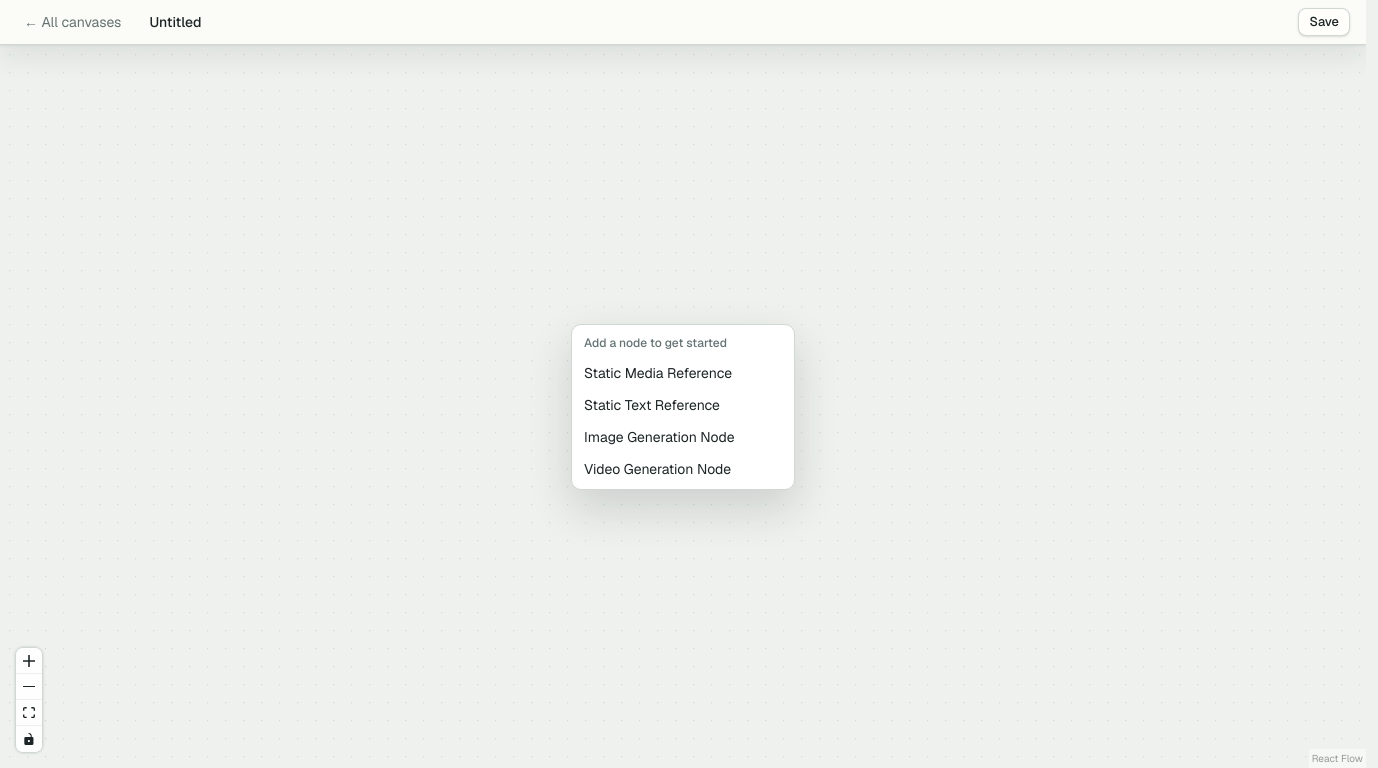
Test case: CanvasEditor header rename (issue #21) › renames the canvas via the header: click, type, Enter persists and updates the header
Click the button "Untitled" at (175, 22), box [141,8,210,36]
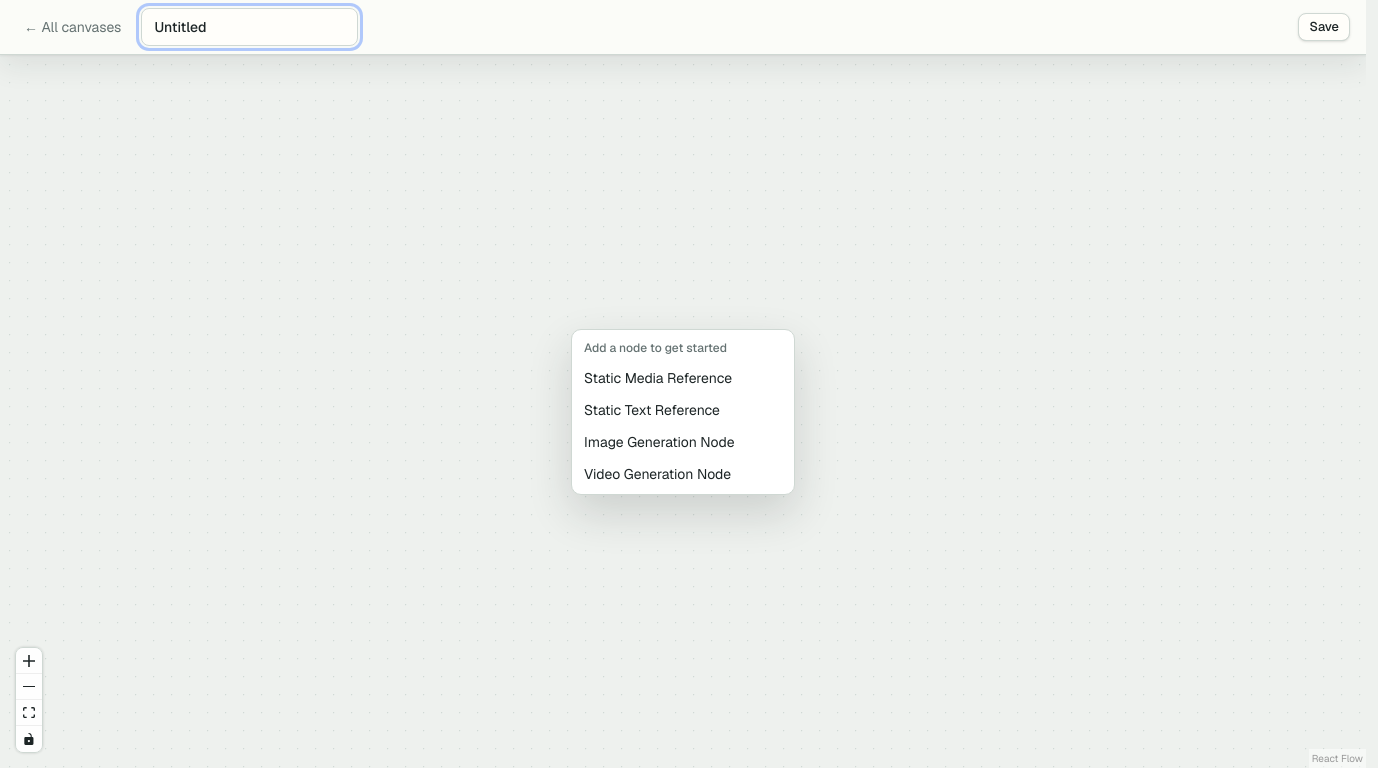
Replace the text in the field named "Canvas name" with "My Renamed Canvas" at (250, 27), box [141,8,358,46]
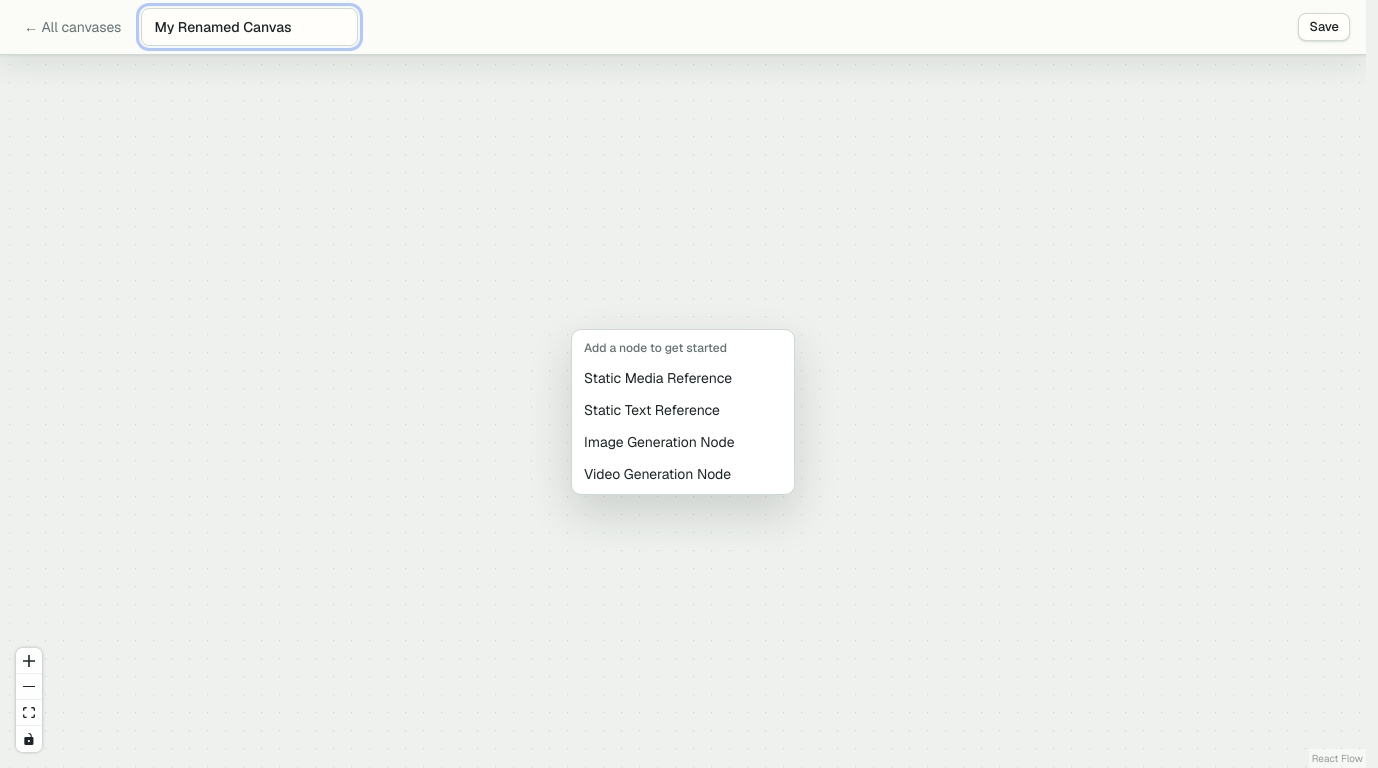
Press Enter
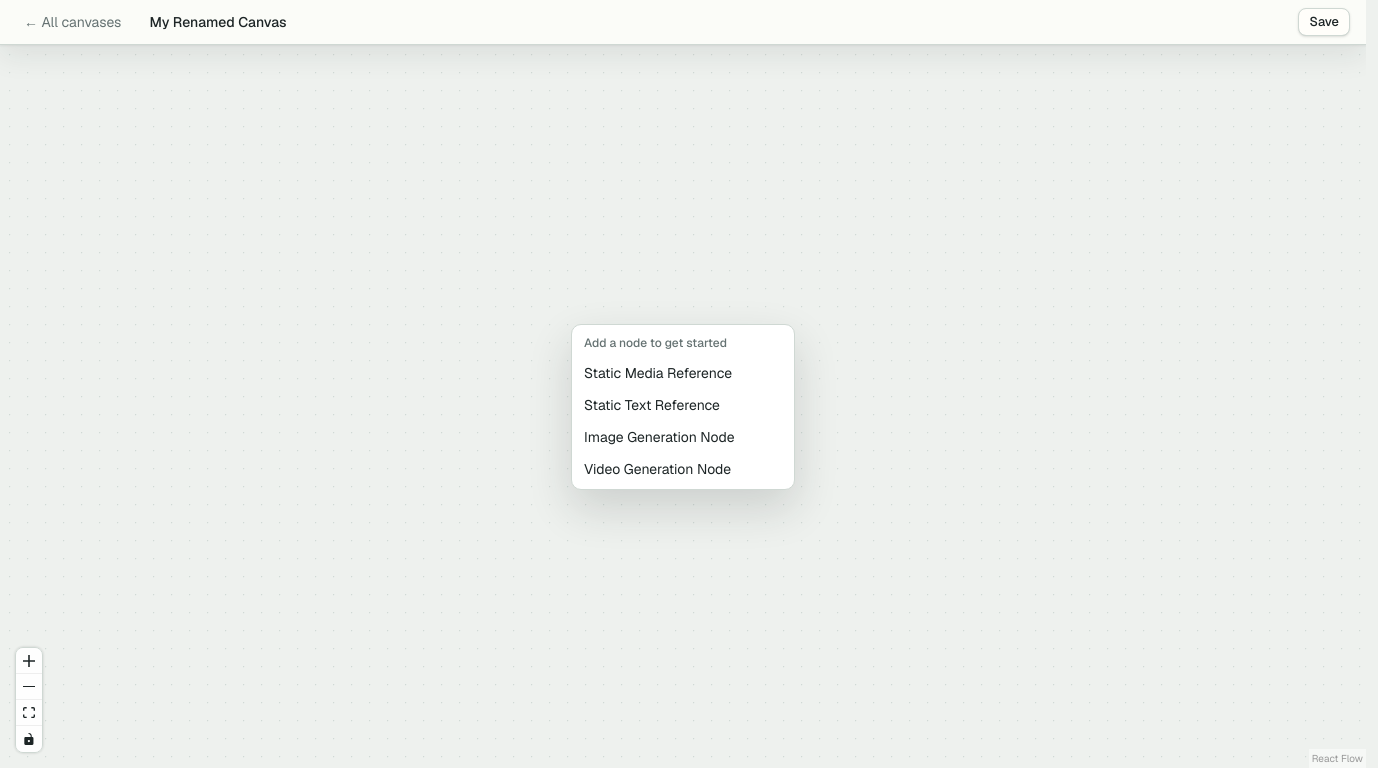
Expected: the button "My Renamed Canvas" is shown, [141,8,295,36]
